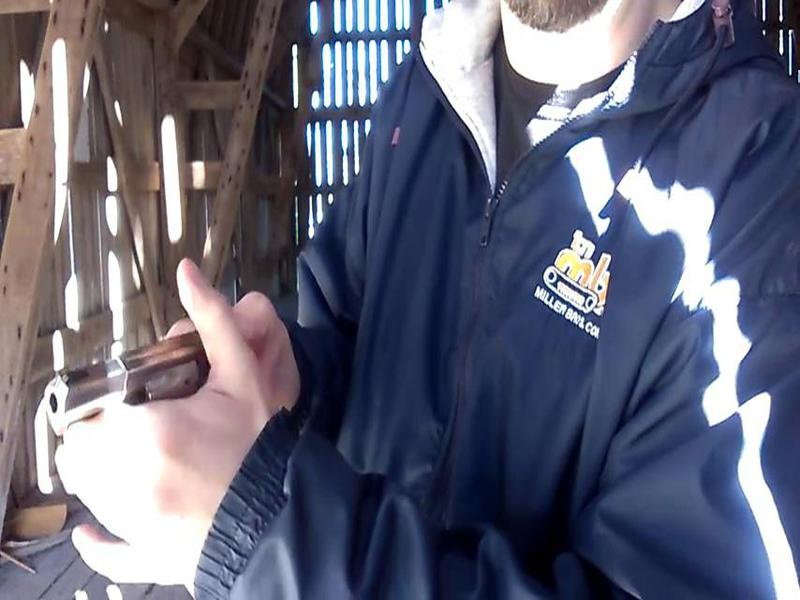Revolver: (32, 323, 241, 456)
